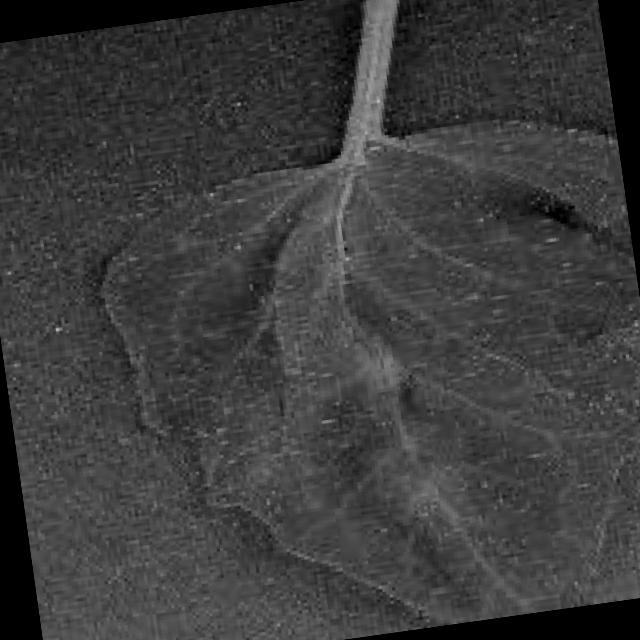healthy: (87, 0, 640, 622)
